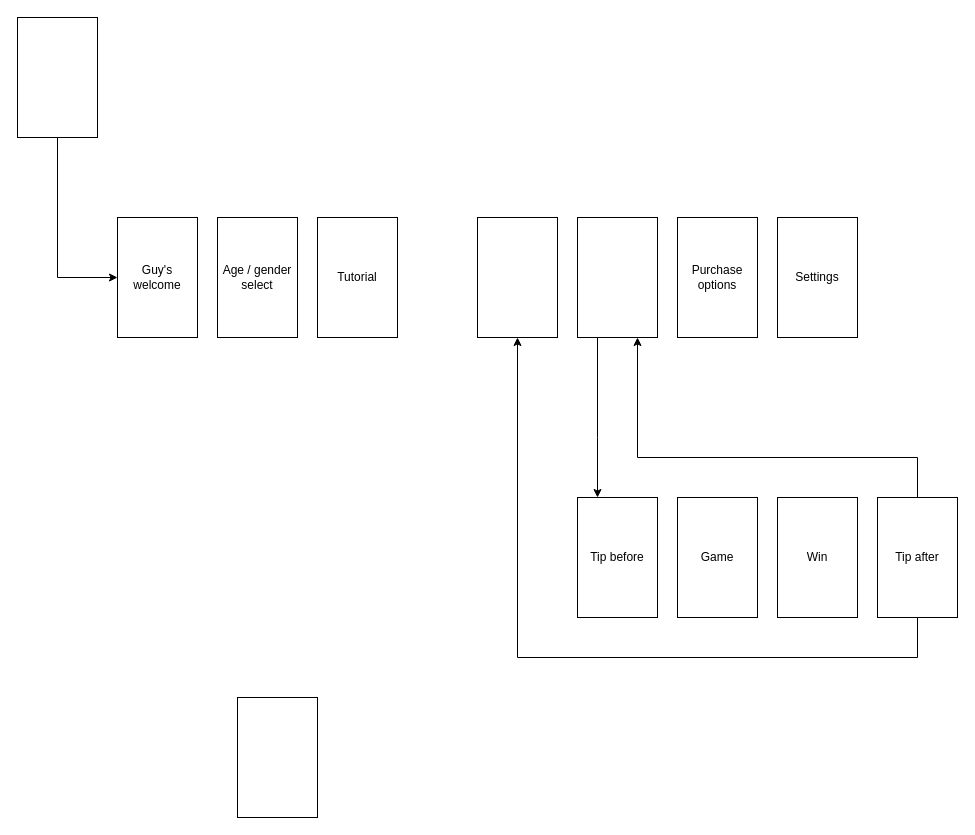
The diagram is 975 pixels wide and 835 high, and some of its shapes have lost their labels. The shapes that lost their labels are listed below. From the top down, each one's box as (x1, y1, x2, y2) in pixels, then its label:
(16, 16, 98, 138): Loading
(476, 216, 558, 338): Topic selection
(576, 216, 658, 338): Map
